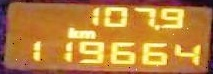-: (152, 23, 159, 30)
0: (103, 6, 127, 27)
1: (31, 39, 41, 61), (63, 40, 73, 62), (89, 6, 98, 25)
4: (172, 42, 200, 65)
6: (139, 42, 168, 65), (108, 40, 135, 64)
7: (132, 7, 155, 27)
9: (77, 40, 102, 63), (159, 7, 183, 28)
X: (77, 29, 94, 38), (65, 26, 77, 38)
